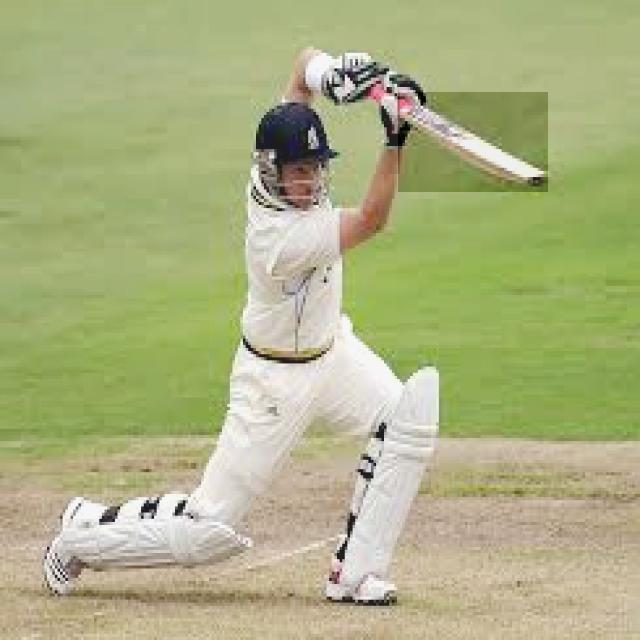bat: (395, 91, 550, 195)
toe: (517, 167, 556, 196)
